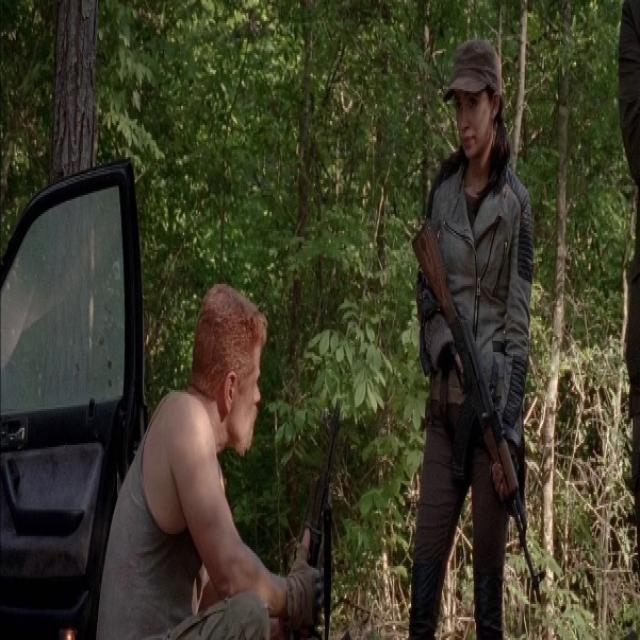rifle: (413, 217, 550, 609)
